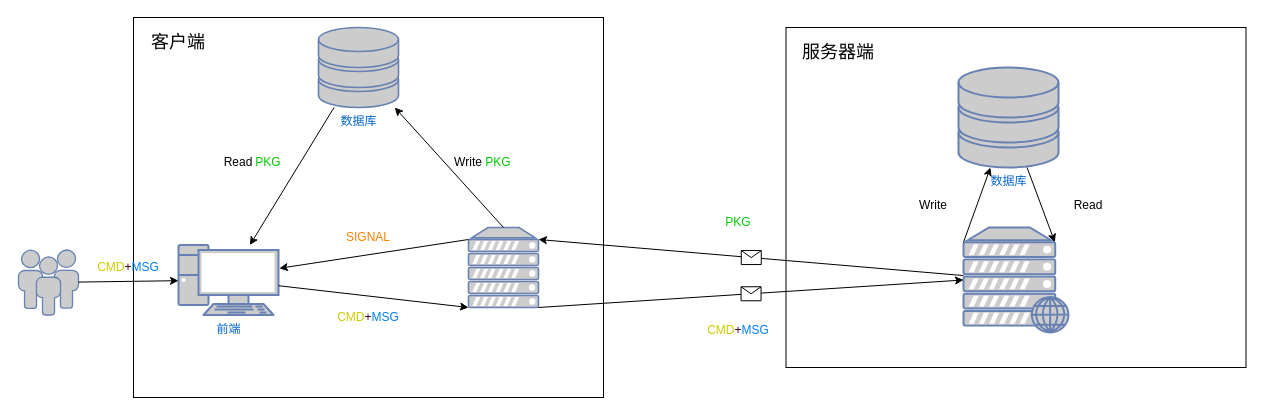
This 1263x415 diagram has some shape labels left out. Each missing label, with the box of its shape:
后端: (467, 226, 539, 308)
服务器后端: (962, 226, 1069, 333)
